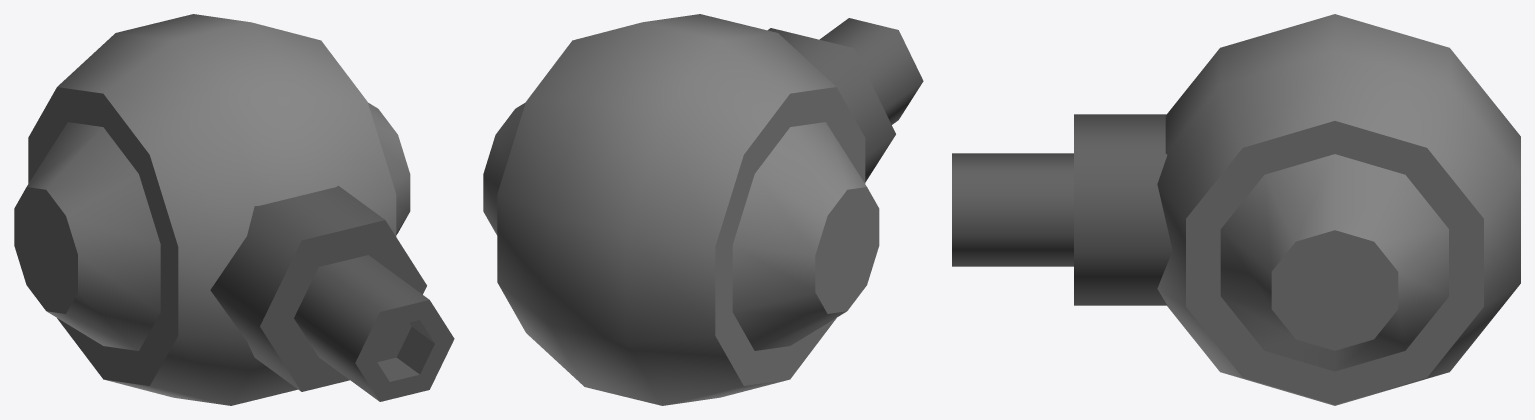
Rendered from Wall Turret.fbx.
3 renders of one model, left to right at view 1: azimuth 30°, elevation 25°; view 2: azimuth 150°, elevation 25°; view 3: azimuth 270°, elevation 25°, orthographic.
Visible parts, largest first — view 1: TurretBase, TurretBarrel; view 2: TurretBase, TurretBarrel; view 3: TurretBase, TurretBarrel.
Boxes of the visible parts, box(x1,y1,x2,y2) form: TurretBase: box(14, 14, 426, 405); TurretBarrel: box(294, 255, 454, 401); TurretBase: box(483, 14, 895, 405); TurretBarrel: box(819, 18, 923, 124); TurretBase: box(1074, 14, 1520, 405); TurretBarrel: box(952, 153, 1073, 266).
Bounding box in the file's own units: 2.33 × 2.39 × 3.48.
1 material, 1 textured.
